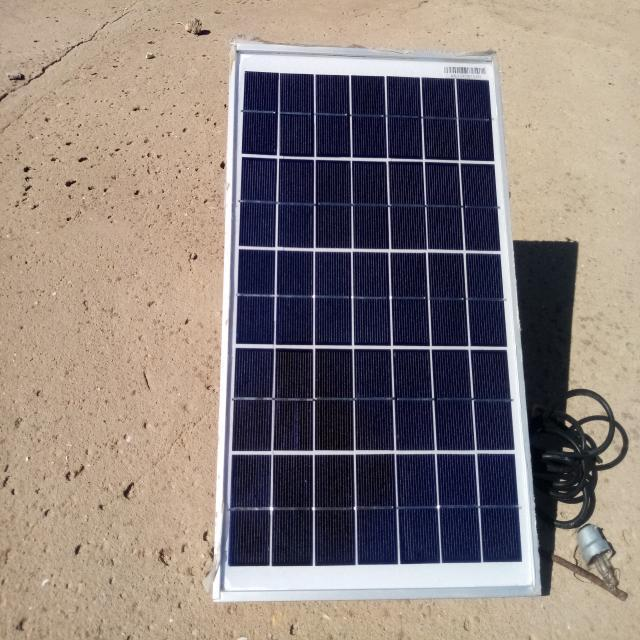Normal Solar Panel: (220, 45, 538, 597)
